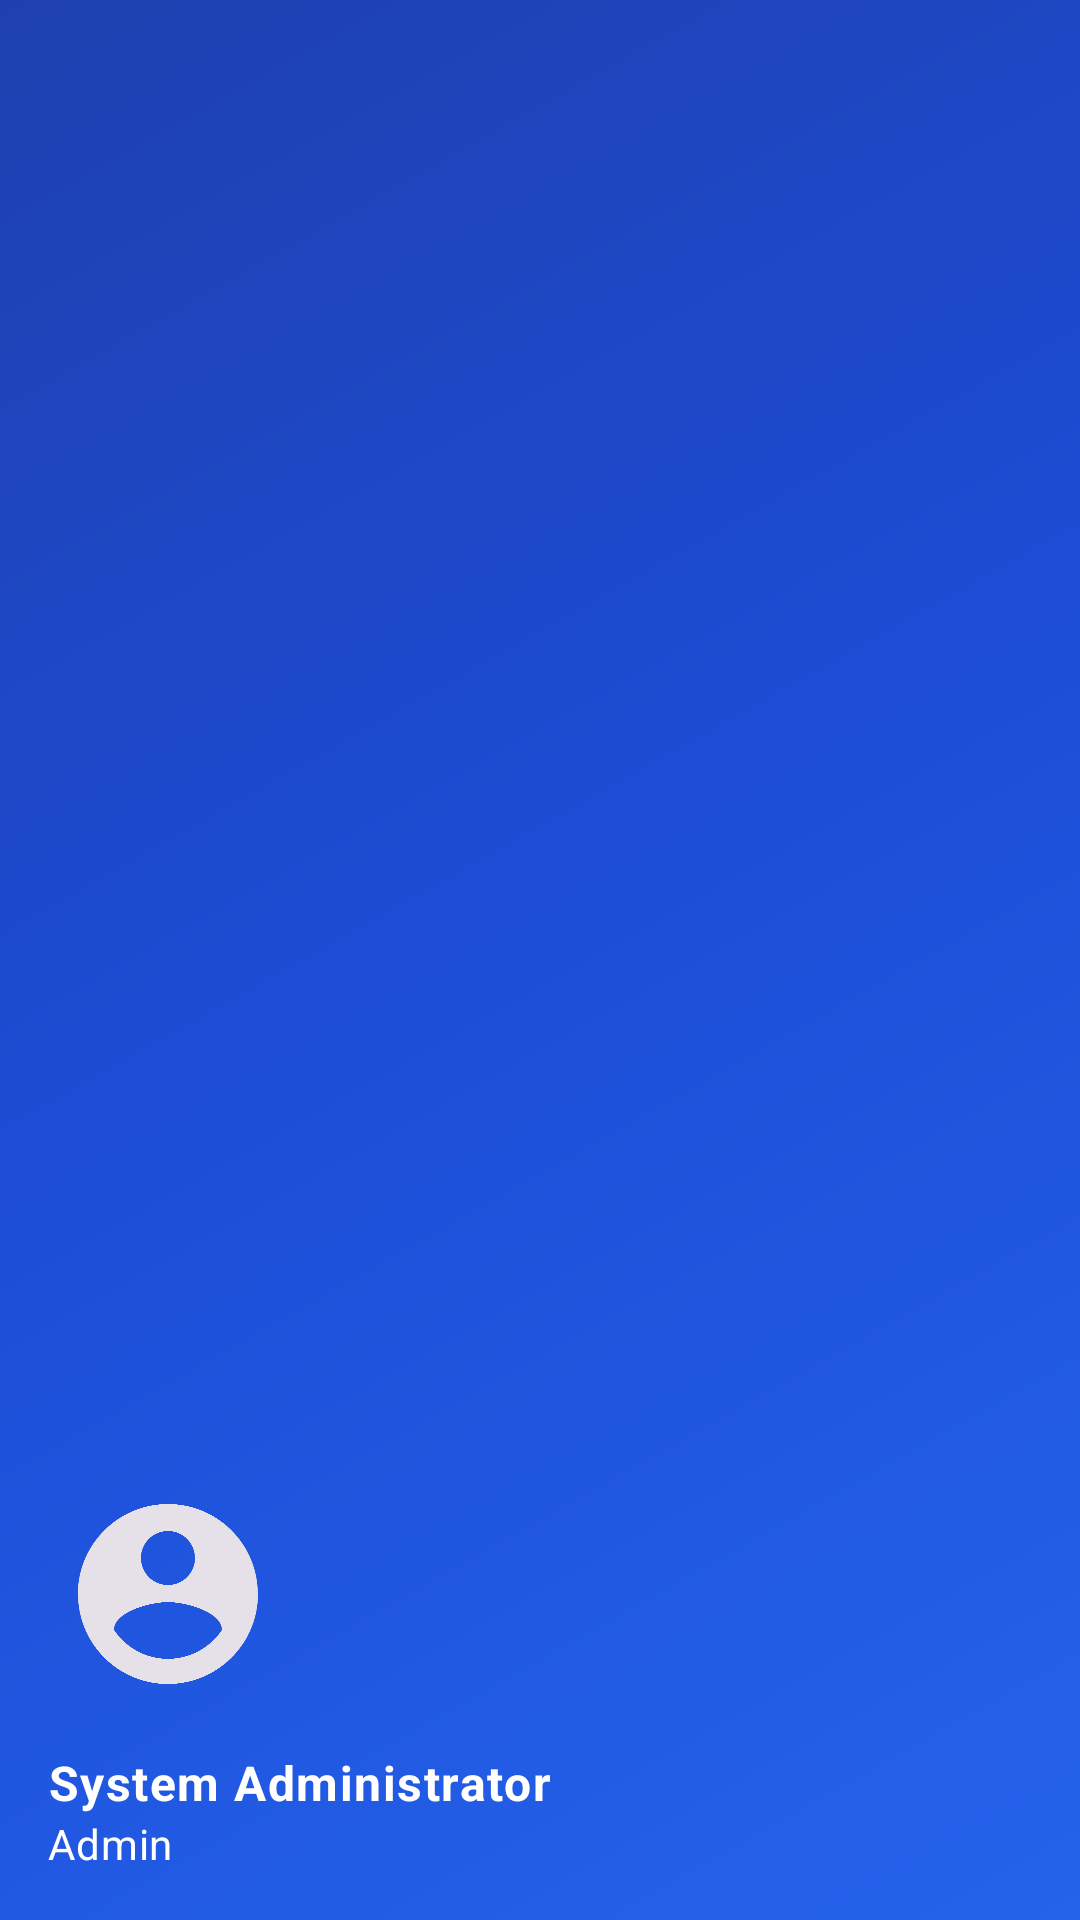

Where to tap for icons on this 1080px x 1920px app screen, as (x=x, y=y):
person circle: (x=168, y=1594)
